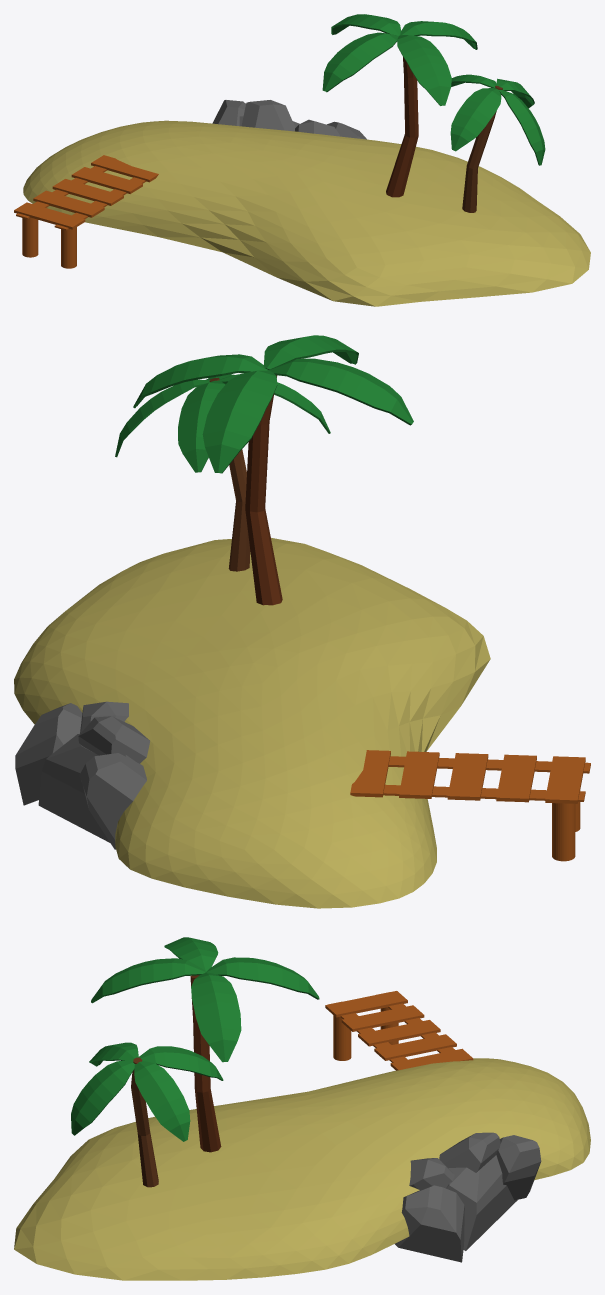
Rendered from island_tutorial.fbx.
The picture shows the model from 3 angles, top to bottom: view 1: azimuth 30°, elevation 25°; view 2: azimuth 150°, elevation 25°; view 3: azimuth 270°, elevation 25°; orthographic projection. The views are drawn at different scales.
Visible parts, largest first — view 1: Island, Port, Plane, Plane.001, Cylinder, Plane.007, Cube.001, Cylinder.001, Plane.006, Plane.003, Plane.002, Cube (+3 smaller); view 2: Island, Port, Plane.002, Cylinder, Cube, Plane.001, Cube.003, Cube.004, Plane.003, Plane.004, Cube.001, Plane (+4 smaller); view 3: Island, Port, Cube.004, Cube.003, Plane.003, Plane.005, Plane.006, Cube, Plane, Plane.002, Cylinder, Cube.001 (+5 smaller).
Part boxes in pixels (box(x1,y1,x2,y2)): Island: box(23, 120, 590, 306); Port: box(14, 155, 158, 268); Plane: box(397, 35, 451, 105); Plane.001: box(322, 32, 398, 92); Cylinder: box(386, 57, 418, 197); Plane.007: box(450, 88, 501, 151); Cube.001: box(241, 100, 295, 131); Cylinder.001: box(462, 85, 502, 212); Plane.006: box(499, 90, 545, 165); Plane.003: box(400, 21, 477, 49); Plane.002: box(331, 14, 400, 35); Cube: box(212, 100, 245, 126); Island: box(14, 538, 490, 908); Port: box(350, 750, 590, 861); Plane.002: box(202, 370, 277, 473); Cylinder: box(245, 375, 282, 605); Cube: box(79, 753, 146, 849); Plane.001: box(268, 358, 413, 425); Cube.003: box(38, 733, 135, 842); Cube.004: box(15, 703, 82, 805); Plane.003: box(133, 354, 268, 408); Plane.004: box(178, 380, 225, 472); Cube.001: box(78, 716, 149, 763); Plane: box(263, 335, 358, 369); Island: box(14, 1058, 590, 1280); Port: box(325, 991, 473, 1070); Cube.004: box(395, 1185, 464, 1262); Cube.003: box(446, 1155, 517, 1250); Plane.003: box(191, 972, 241, 1062); Plane.005: box(134, 1061, 190, 1141); Plane.006: box(71, 1060, 134, 1135); Cube: box(496, 1135, 541, 1200); Plane: box(91, 958, 205, 1003); Plane.002: box(206, 957, 319, 999); Cylinder: box(190, 975, 221, 1152); Cube.001: box(439, 1132, 500, 1172).
Bounding box in the file's own units: 4424 × 2294 × 4437.
